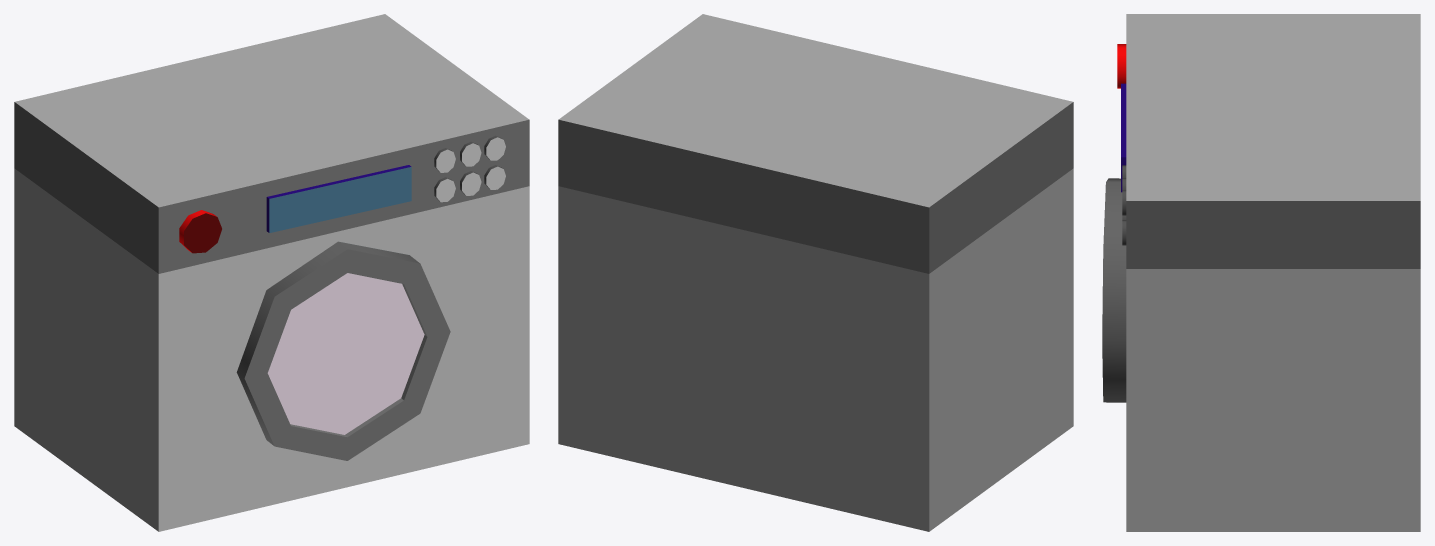
The model's file is Washing _Machine.fbx.
The picture shows the model from 3 angles, left to right: view 1: azimuth 30°, elevation 25°; view 2: azimuth 150°, elevation 25°; view 3: azimuth 270°, elevation 25°; orthographic projection.
Visible parts, largest first — view 1: Washing machine, Cylinder001; view 2: Washing machine; view 3: Washing machine, Cylinder001.
Boxes of the visible parts, x1,y1,x2,y2 form: Washing machine: (14, 14, 529, 531); Cylinder001: (236, 241, 450, 460); Washing machine: (558, 14, 1073, 531); Washing machine: (1117, 14, 1420, 531); Cylinder001: (1102, 178, 1126, 402).
Bounding box in the file's own units: 100 × 84.3 × 73.
